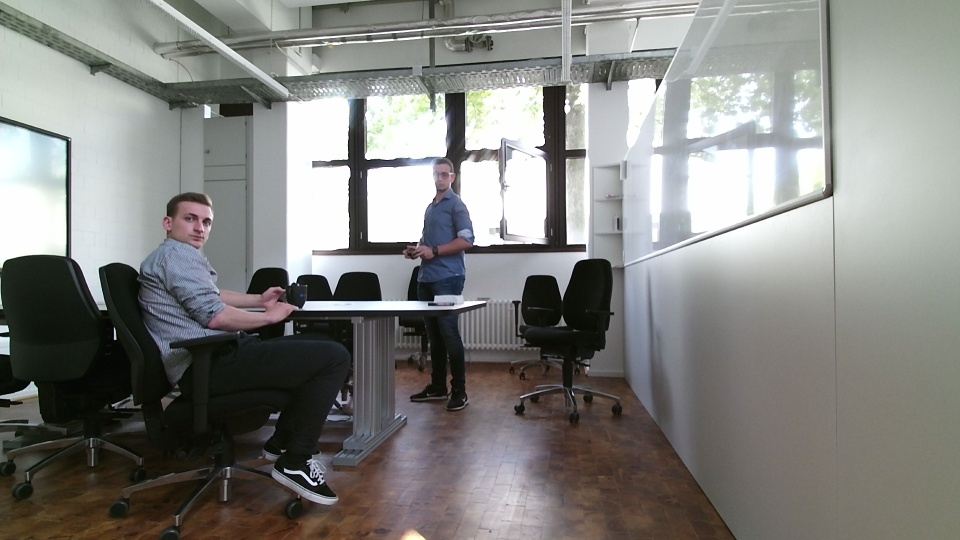Person: (132, 187, 351, 510), (408, 154, 479, 415)
